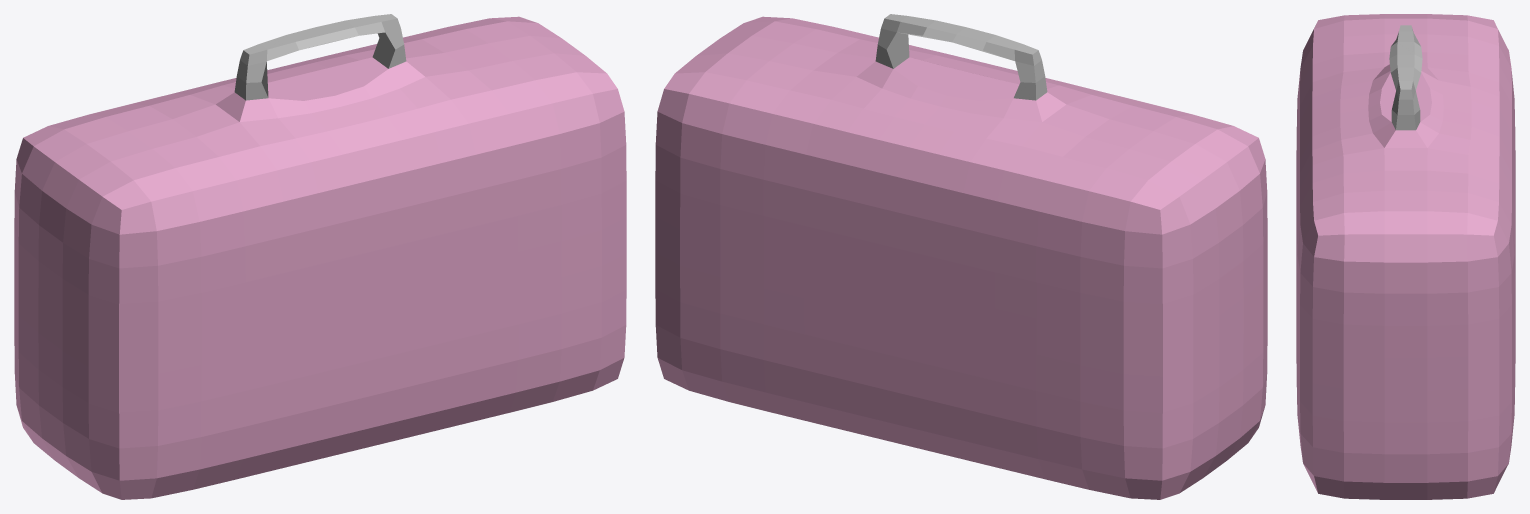
Rendered from rtm_pinksuitcase.gltf.
3 views of the same model, side by side, from view 1: azimuth 30°, elevation 25°; view 2: azimuth 150°, elevation 25°; view 3: azimuth 270°, elevation 25° (orthographic). The views are drawn at different scales.
Parts seen in each view (by area): view 1: Cube; view 2: Cube; view 3: Cube.
Part boxes in pixels (<box>): Cube: <box>14,14,626,499</box>; Cube: <box>655,14,1267,499</box>; Cube: <box>1296,14,1515,499</box>.
Bounding box in the file's own units: 0.6211 × 0.4288 × 0.2453.
